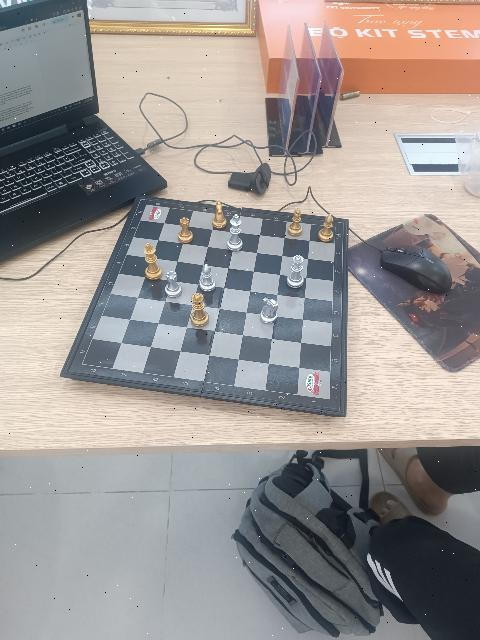black_bishop: (318, 213, 336, 243), (287, 208, 305, 236)
black_king: (144, 242, 163, 281)
black_knight: (211, 200, 227, 228)
black_queen: (190, 292, 209, 328)
black_rook: (178, 217, 193, 244)
white_bishop: (199, 263, 214, 291)
white_king: (228, 214, 244, 251)
white_knight: (260, 297, 279, 324)
white_queen: (286, 255, 304, 289)
white_rook: (164, 270, 181, 298)
